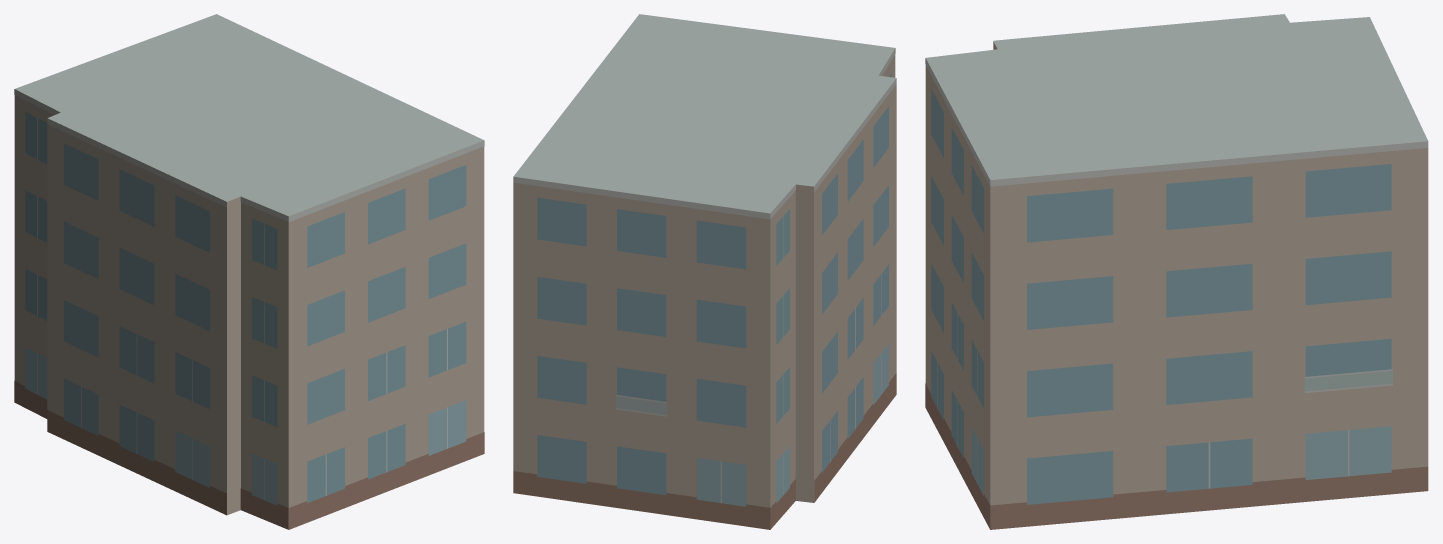
The model's file is survey-upis-32630028.glb.
3 views of the same model, side by side, from view 1: azimuth 30°, elevation 25°; view 2: azimuth 150°, elevation 25°; view 3: azimuth 270°, elevation 25° (orthographic). The views are drawn at different scales.
Visible parts, largest first — view 1: survey-upis-32630028.tmp; view 2: survey-upis-32630028.tmp; view 3: survey-upis-32630028.tmp.
Boxes of the visible parts, x1,y1,x2,y2 form: survey-upis-32630028.tmp: (14, 14, 484, 529); survey-upis-32630028.tmp: (513, 14, 896, 529); survey-upis-32630028.tmp: (925, 14, 1428, 529).
Size of the model in its own units: 13.25 by 13 by 16.95.
